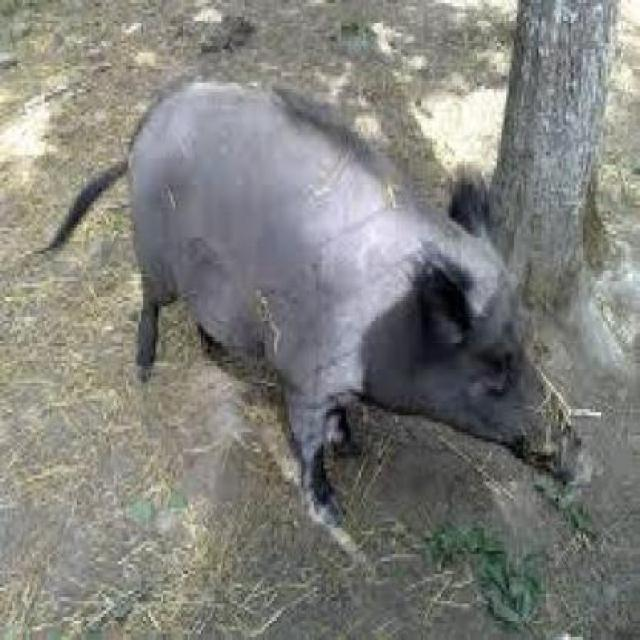wildboar: (39, 76, 586, 522)
